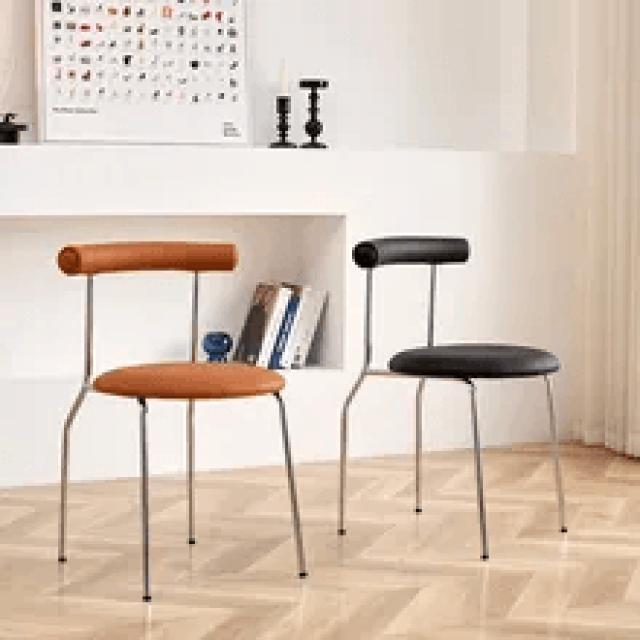chair: (54, 232, 310, 604), (333, 229, 574, 566), (58, 231, 296, 399), (352, 232, 564, 380)
